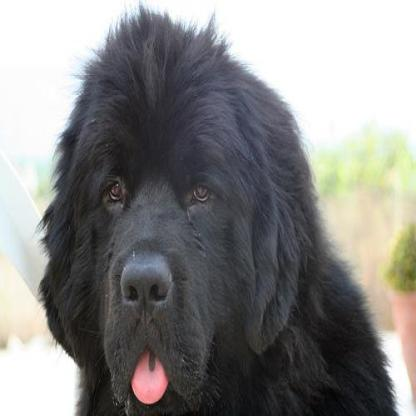Newfoundland: (36, 6, 398, 414)
